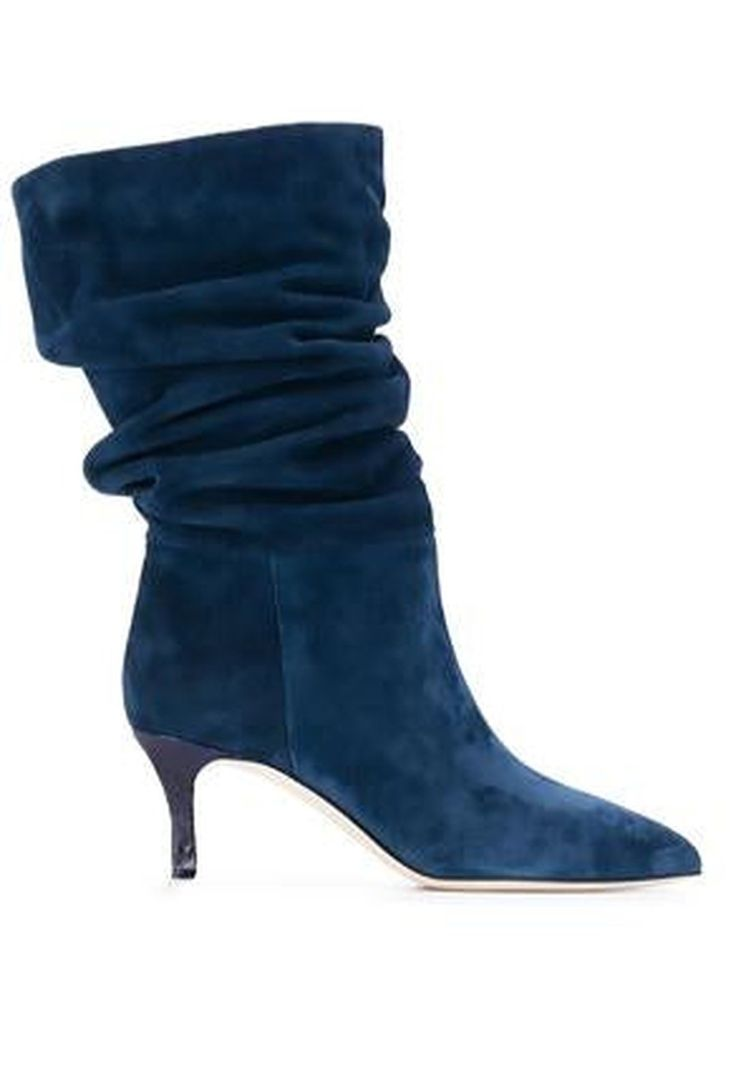gamuza: (11, 124, 699, 881)
